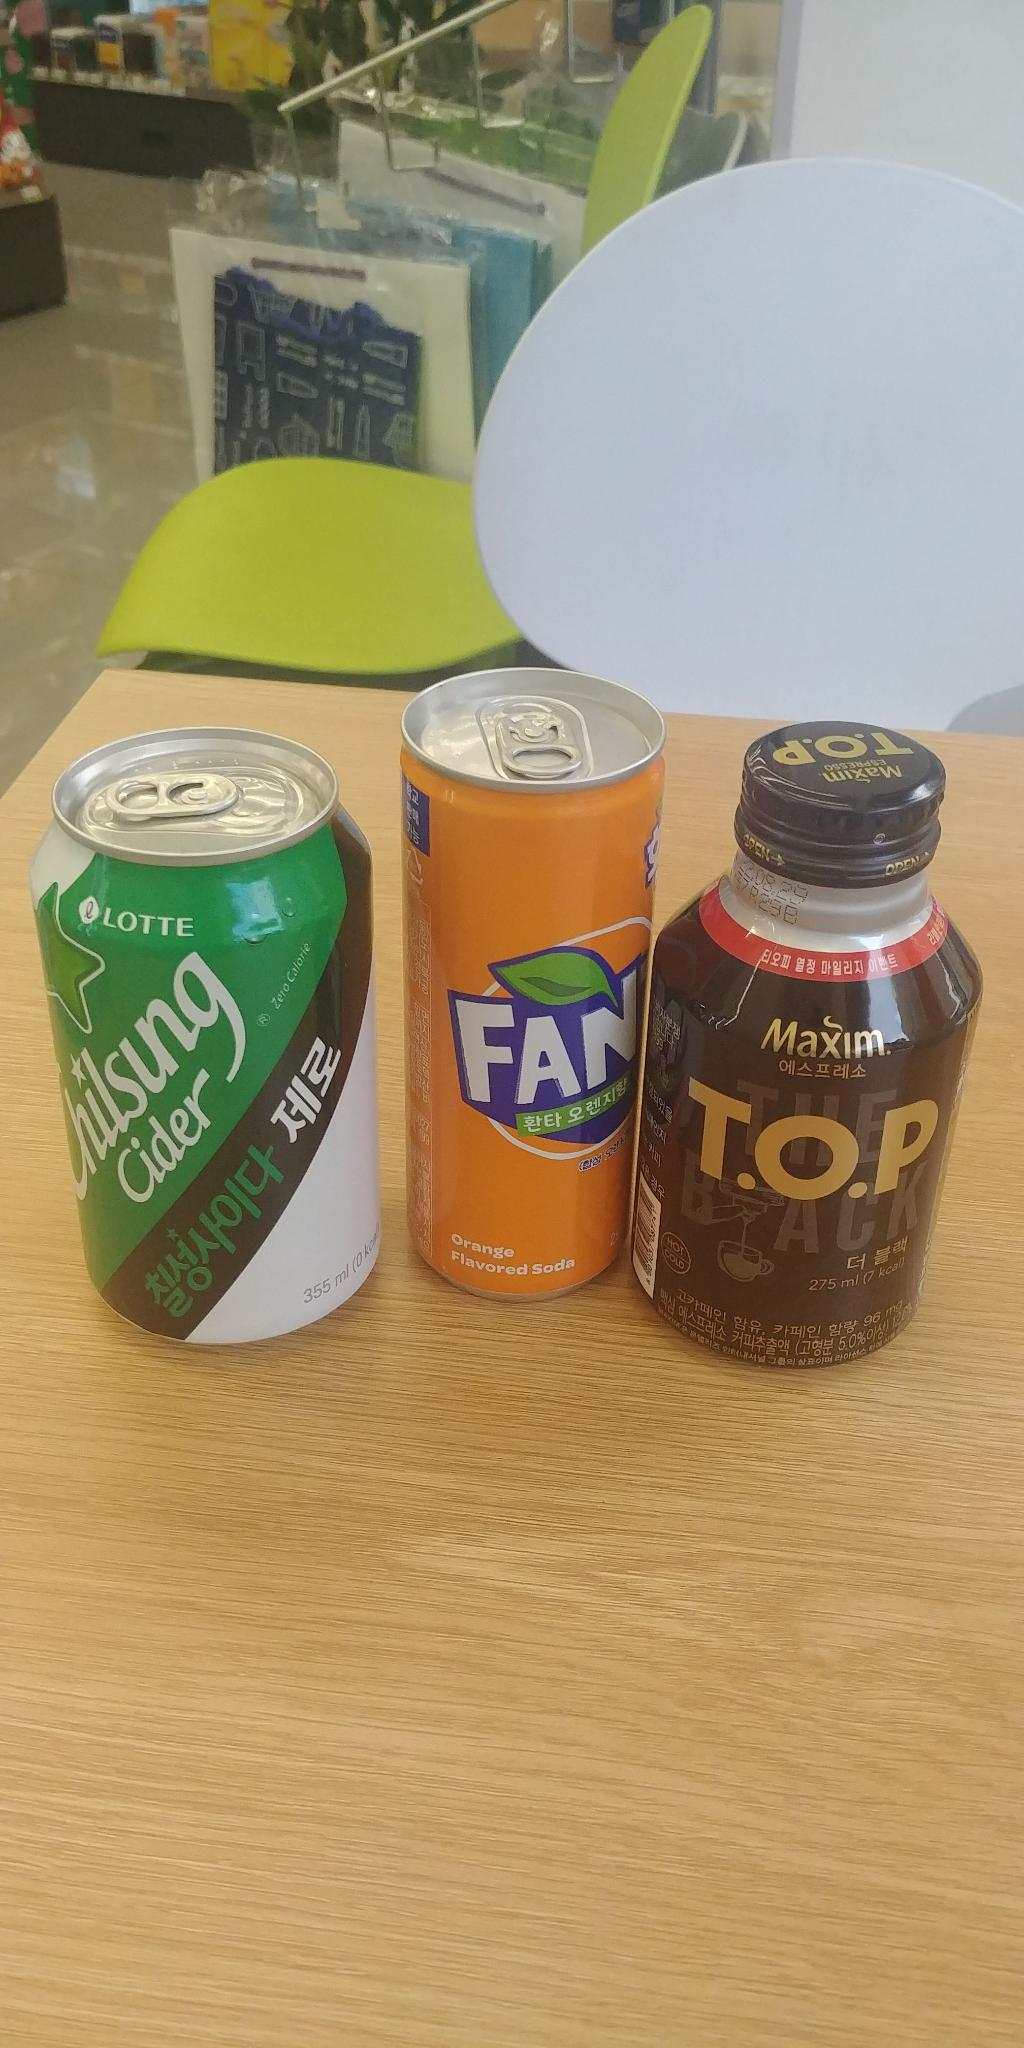TOP_black: (650, 687, 986, 1368)
